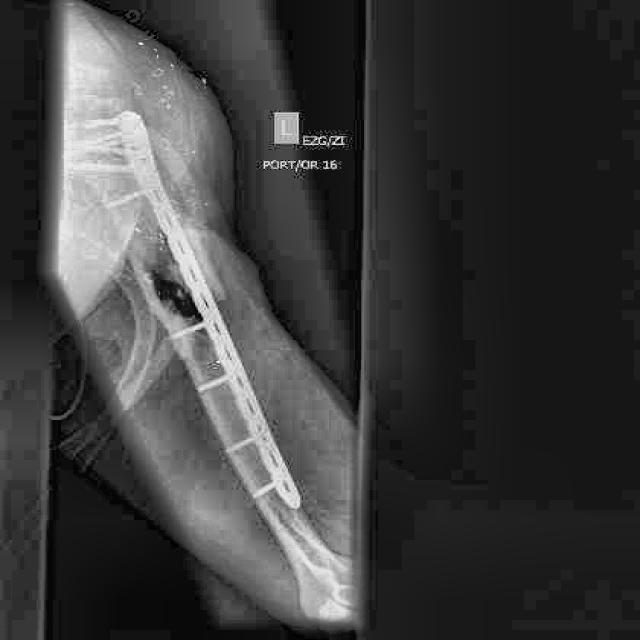humerus: (136, 245, 209, 337)
